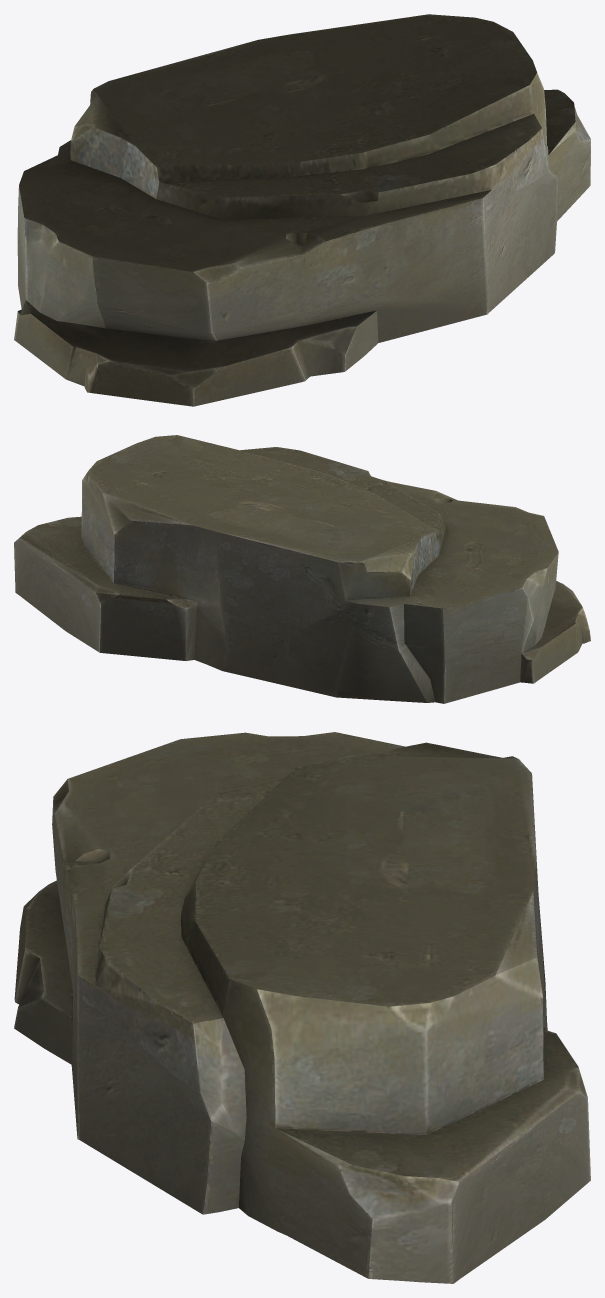
The model's file is neutral_stash_rocks.fbx.
3 renders of one model, top to bottom at view 1: azimuth 30°, elevation 25°; view 2: azimuth 150°, elevation 25°; view 3: azimuth 270°, elevation 25°, orthographic. The views are drawn at different scales.
Parts seen in each view (by area): view 1: neutral_stash_rocks; view 2: neutral_stash_rocks; view 3: neutral_stash_rocks.
Boxes of the visible parts, x1,y1,x2,y2 form: neutral_stash_rocks: (14, 14, 590, 406); neutral_stash_rocks: (14, 435, 590, 703); neutral_stash_rocks: (14, 732, 590, 1283).
Size of the model in its own units: 11.24 by 2.97 by 6.81.
